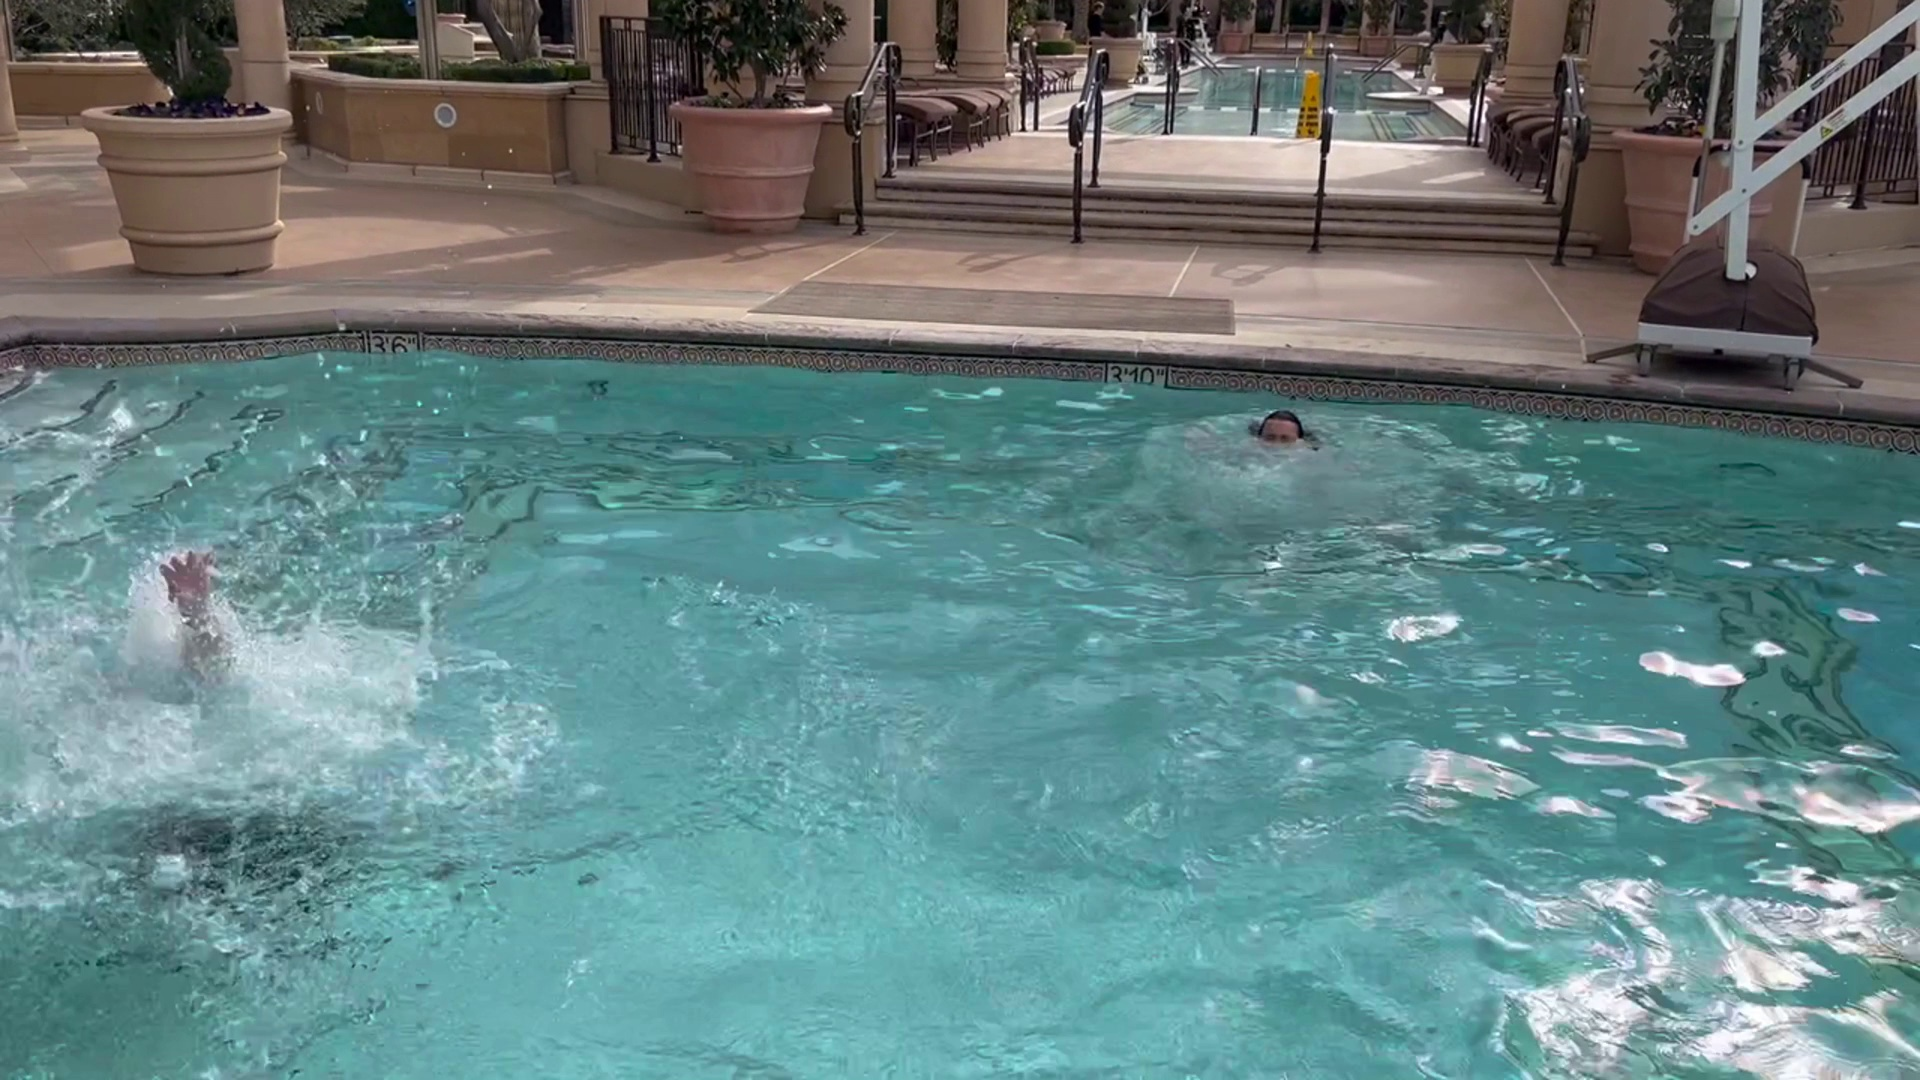danger: (5, 477, 564, 860)
